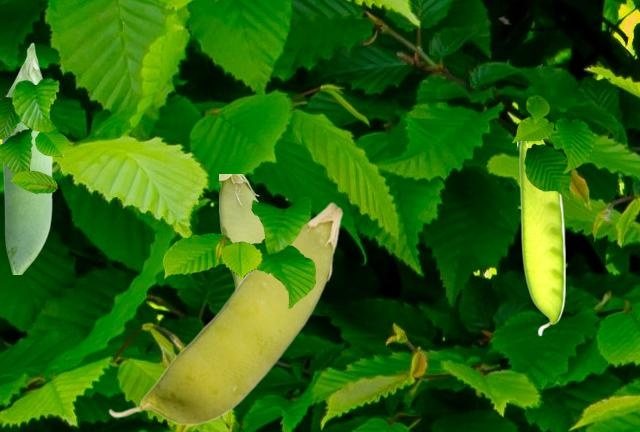pea: (108, 202, 342, 424), (1, 42, 51, 273), (517, 138, 564, 335), (219, 174, 263, 288)
